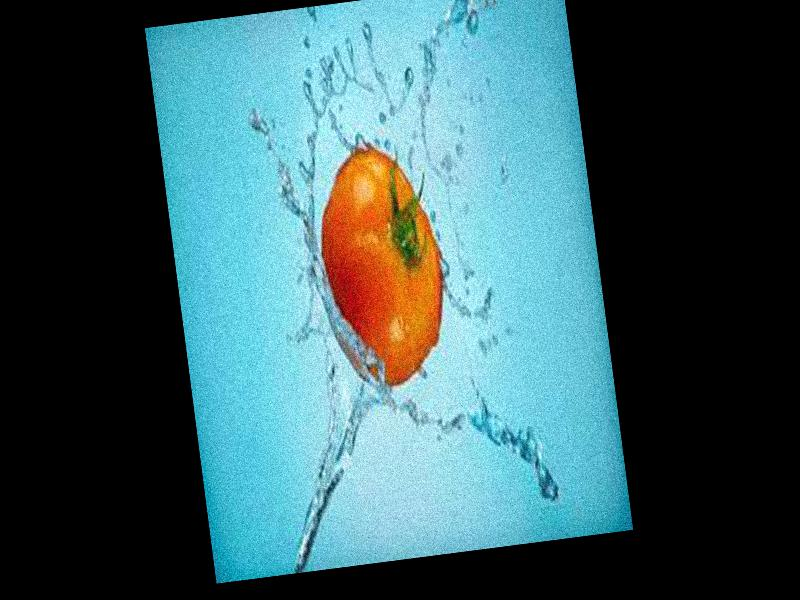Tomato: (307, 139, 454, 392)
